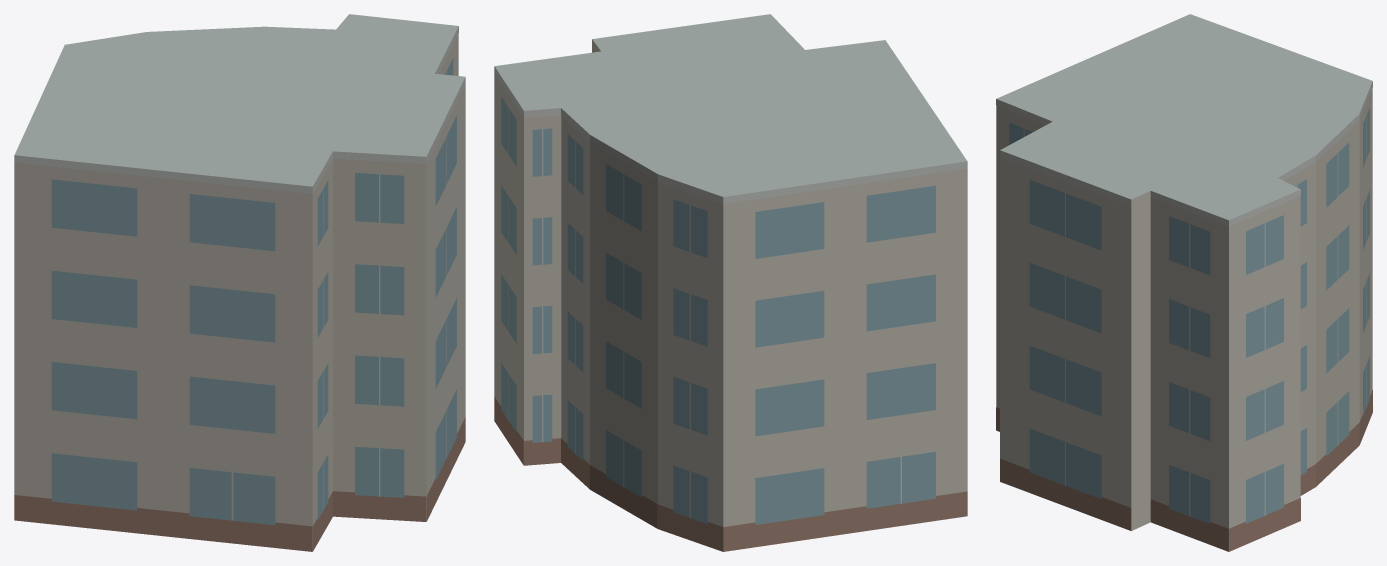
File: survey-upis-32989036.glb
The picture shows the model from 3 angles, left to right: view 1: azimuth 30°, elevation 25°; view 2: azimuth 150°, elevation 25°; view 3: azimuth 270°, elevation 25°; orthographic projection. The views are drawn at different scales.
Visible parts, largest first — view 1: survey-upis-32989036.tmp; view 2: survey-upis-32989036.tmp; view 3: survey-upis-32989036.tmp.
Boxes of the visible parts, x1,y1,x2,y2 form: survey-upis-32989036.tmp: (14, 14, 465, 551); survey-upis-32989036.tmp: (494, 14, 967, 551); survey-upis-32989036.tmp: (996, 14, 1372, 551).
Size of the model in its own units: 16.29 by 12.2 by 12.57.
